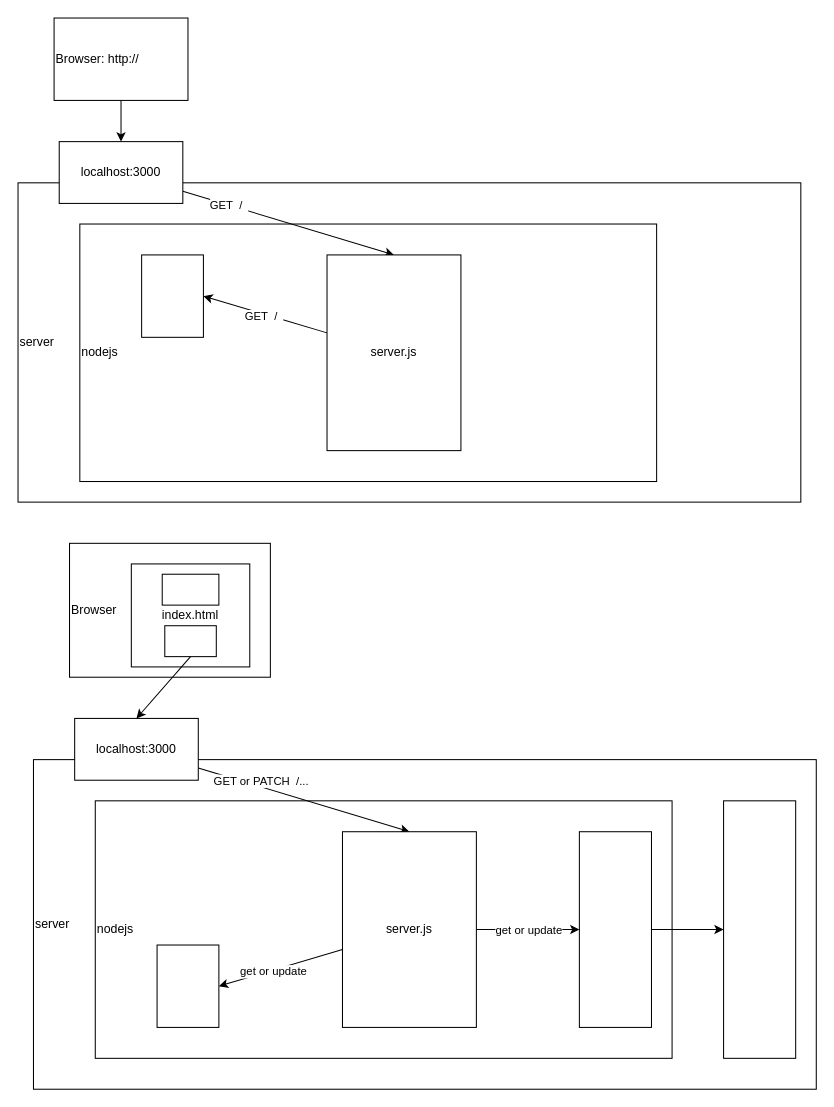
This 834x1107 diagram has some shape labels left out. Here are the shapes that lost their labels. From the top down, the centre of each, then its label:
At (x=172, y=295): "index.html (css, js)".
At (x=190, y=589): "css".
At (x=190, y=641): "js".
At (x=614, y=929): "db.js".
At (x=759, y=929): "mysql".
At (x=187, y=985): "counter.txt".
